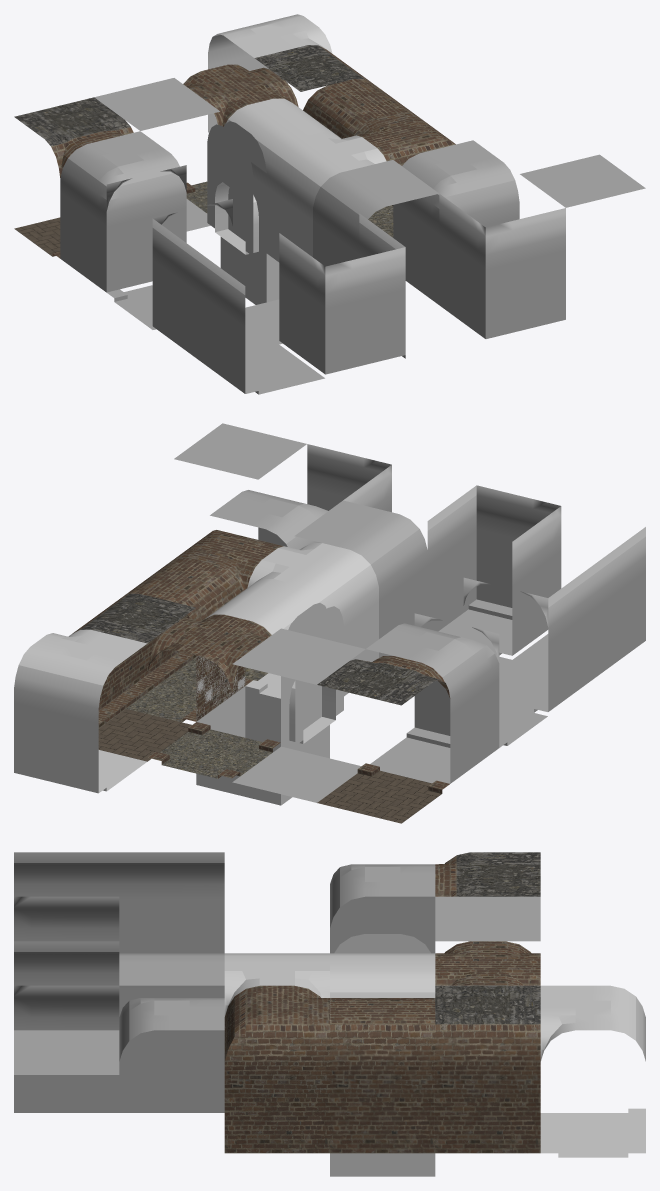
The model's file is Tiles.fbx.
3 renders of one model, top to bottom at view 1: azimuth 30°, elevation 25°; view 2: azimuth 150°, elevation 25°; view 3: azimuth 270°, elevation 25°, orthographic. The views are drawn at different scales.
Visible parts, largest first — view 1: room_corner, room_corner_big_mid, room_corner_big_bot, room_corner_big_top, room_side_big_bot, t_crossroad, trap, room_side_big_top, room_corner_entrance_big_bot, door_frame, room_entrance, room_mid (+9 smaller); view 2: room_corner_entrance, room_corner, room_corner_big_bot, trap, corridor, room_side_big_top, x_crossroad, room_corner_entrance_big_bot, room_mid, room_entrance, t_crossroad, room_side (+8 smaller); view 3: room_side, corridor_corner, corridor, room_corner_big_top, room_corner_entrance_big_bot, room_corner_entrance, room_corner_big_mid, room_corner, trap, room_side_big_top, room_mid, room_corner_big_bot (+7 smaller).
Part boxes in pixels (<box>): room_corner: <box>60,131,186,292</box>; room_corner_big_mid: <box>439,194,565,338</box>; room_corner_big_bot: <box>279,233,405,374</box>; room_corner_big_top: <box>393,140,519,304</box>; room_side_big_bot: <box>199,252,324,394</box>; t_crossroad: <box>266,132,386,262</box>; trap: <box>220,98,337,304</box>; room_side_big_top: <box>313,160,438,266</box>; room_corner_entrance_big_bot: <box>152,199,278,359</box>; door_frame: <box>207,121,266,256</box>; room_entrance: <box>14,97,133,258</box>; room_mid: <box>94,78,219,231</box>; room_corner_entrance: <box>14,629,147,793</box>; room_corner: <box>366,623,499,783</box>; room_corner_big_bot: <box>438,485,561,655</box>; trap: <box>196,579,329,805</box>; corridor: <box>111,558,245,722</box>; room_side_big_top: <box>294,500,427,657</box>; x_crossroad: <box>147,614,280,778</box>; room_corner_entrance_big_bot: <box>463,563,596,712</box>; room_mid: <box>232,628,365,802</box>; room_entrance: <box>317,656,450,823</box>; t_crossroad: <box>245,543,378,698</box>; room_side: <box>72,594,195,761</box>; room_side: <box>435,985,540,1153</box>; corridor_corner: <box>224,985,329,1153</box>; corridor: <box>330,998,435,1153</box>; room_corner_big_top: <box>119,998,224,1112</box>; room_corner_entrance_big_bot: <box>119,852,224,953</box>; room_corner_entrance: <box>540,985,645,1157</box>; room_corner_big_mid: <box>14,985,119,1112</box>; room_corner: <box>330,864,435,953</box>; trap: <box>330,953,435,1176</box>; room_side_big_top: <box>119,953,224,1016</box>; room_mid: <box>435,896,540,941</box>; room_corner_big_bot: <box>14,896,119,941</box>.
Size of the model in its own units: 30 by 12 by 36.
